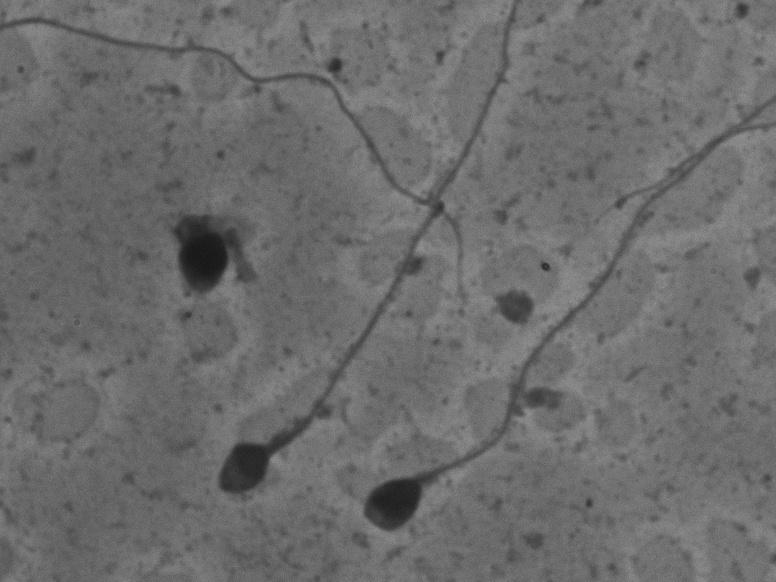Abnormal: (327, 89, 760, 551), (195, 12, 549, 507), (136, 181, 279, 312)
